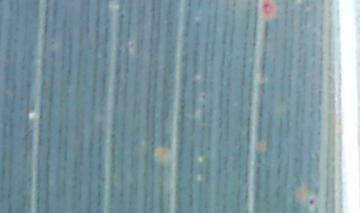tarspot: (308, 196, 314, 206), (128, 41, 135, 49), (109, 132, 117, 139), (199, 93, 206, 101)
